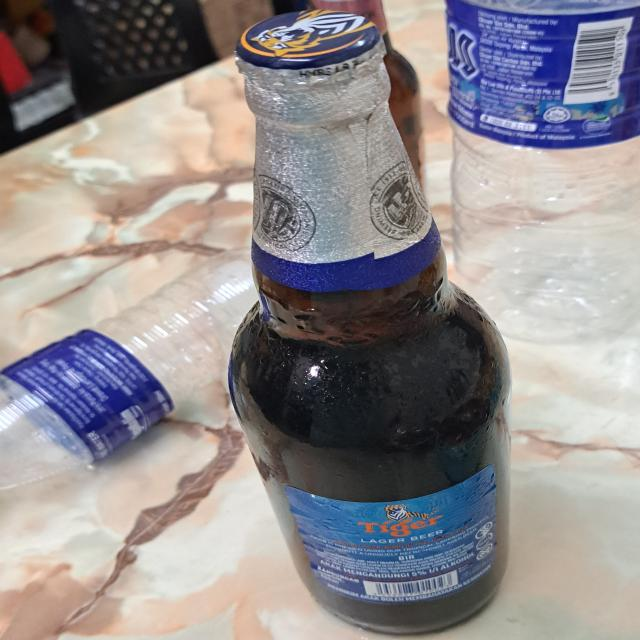glass bottle: (231, 7, 517, 635)
plastic bottle: (447, 0, 640, 347), (0, 248, 265, 489)
